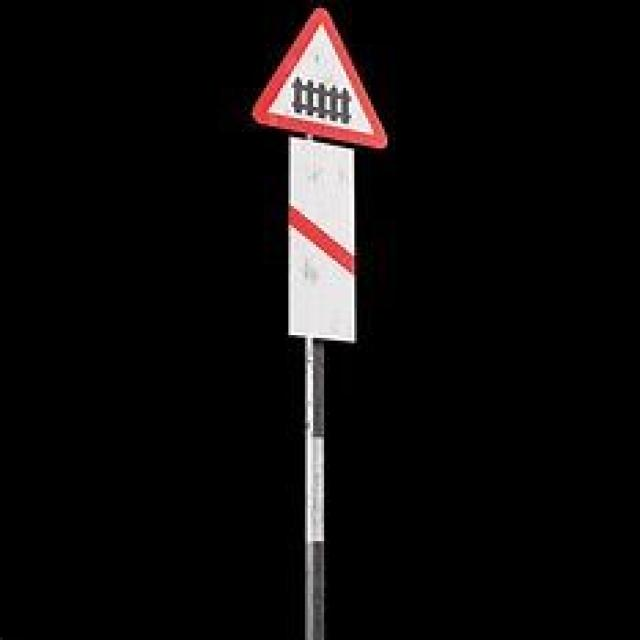give_way: (247, 2, 390, 146)
